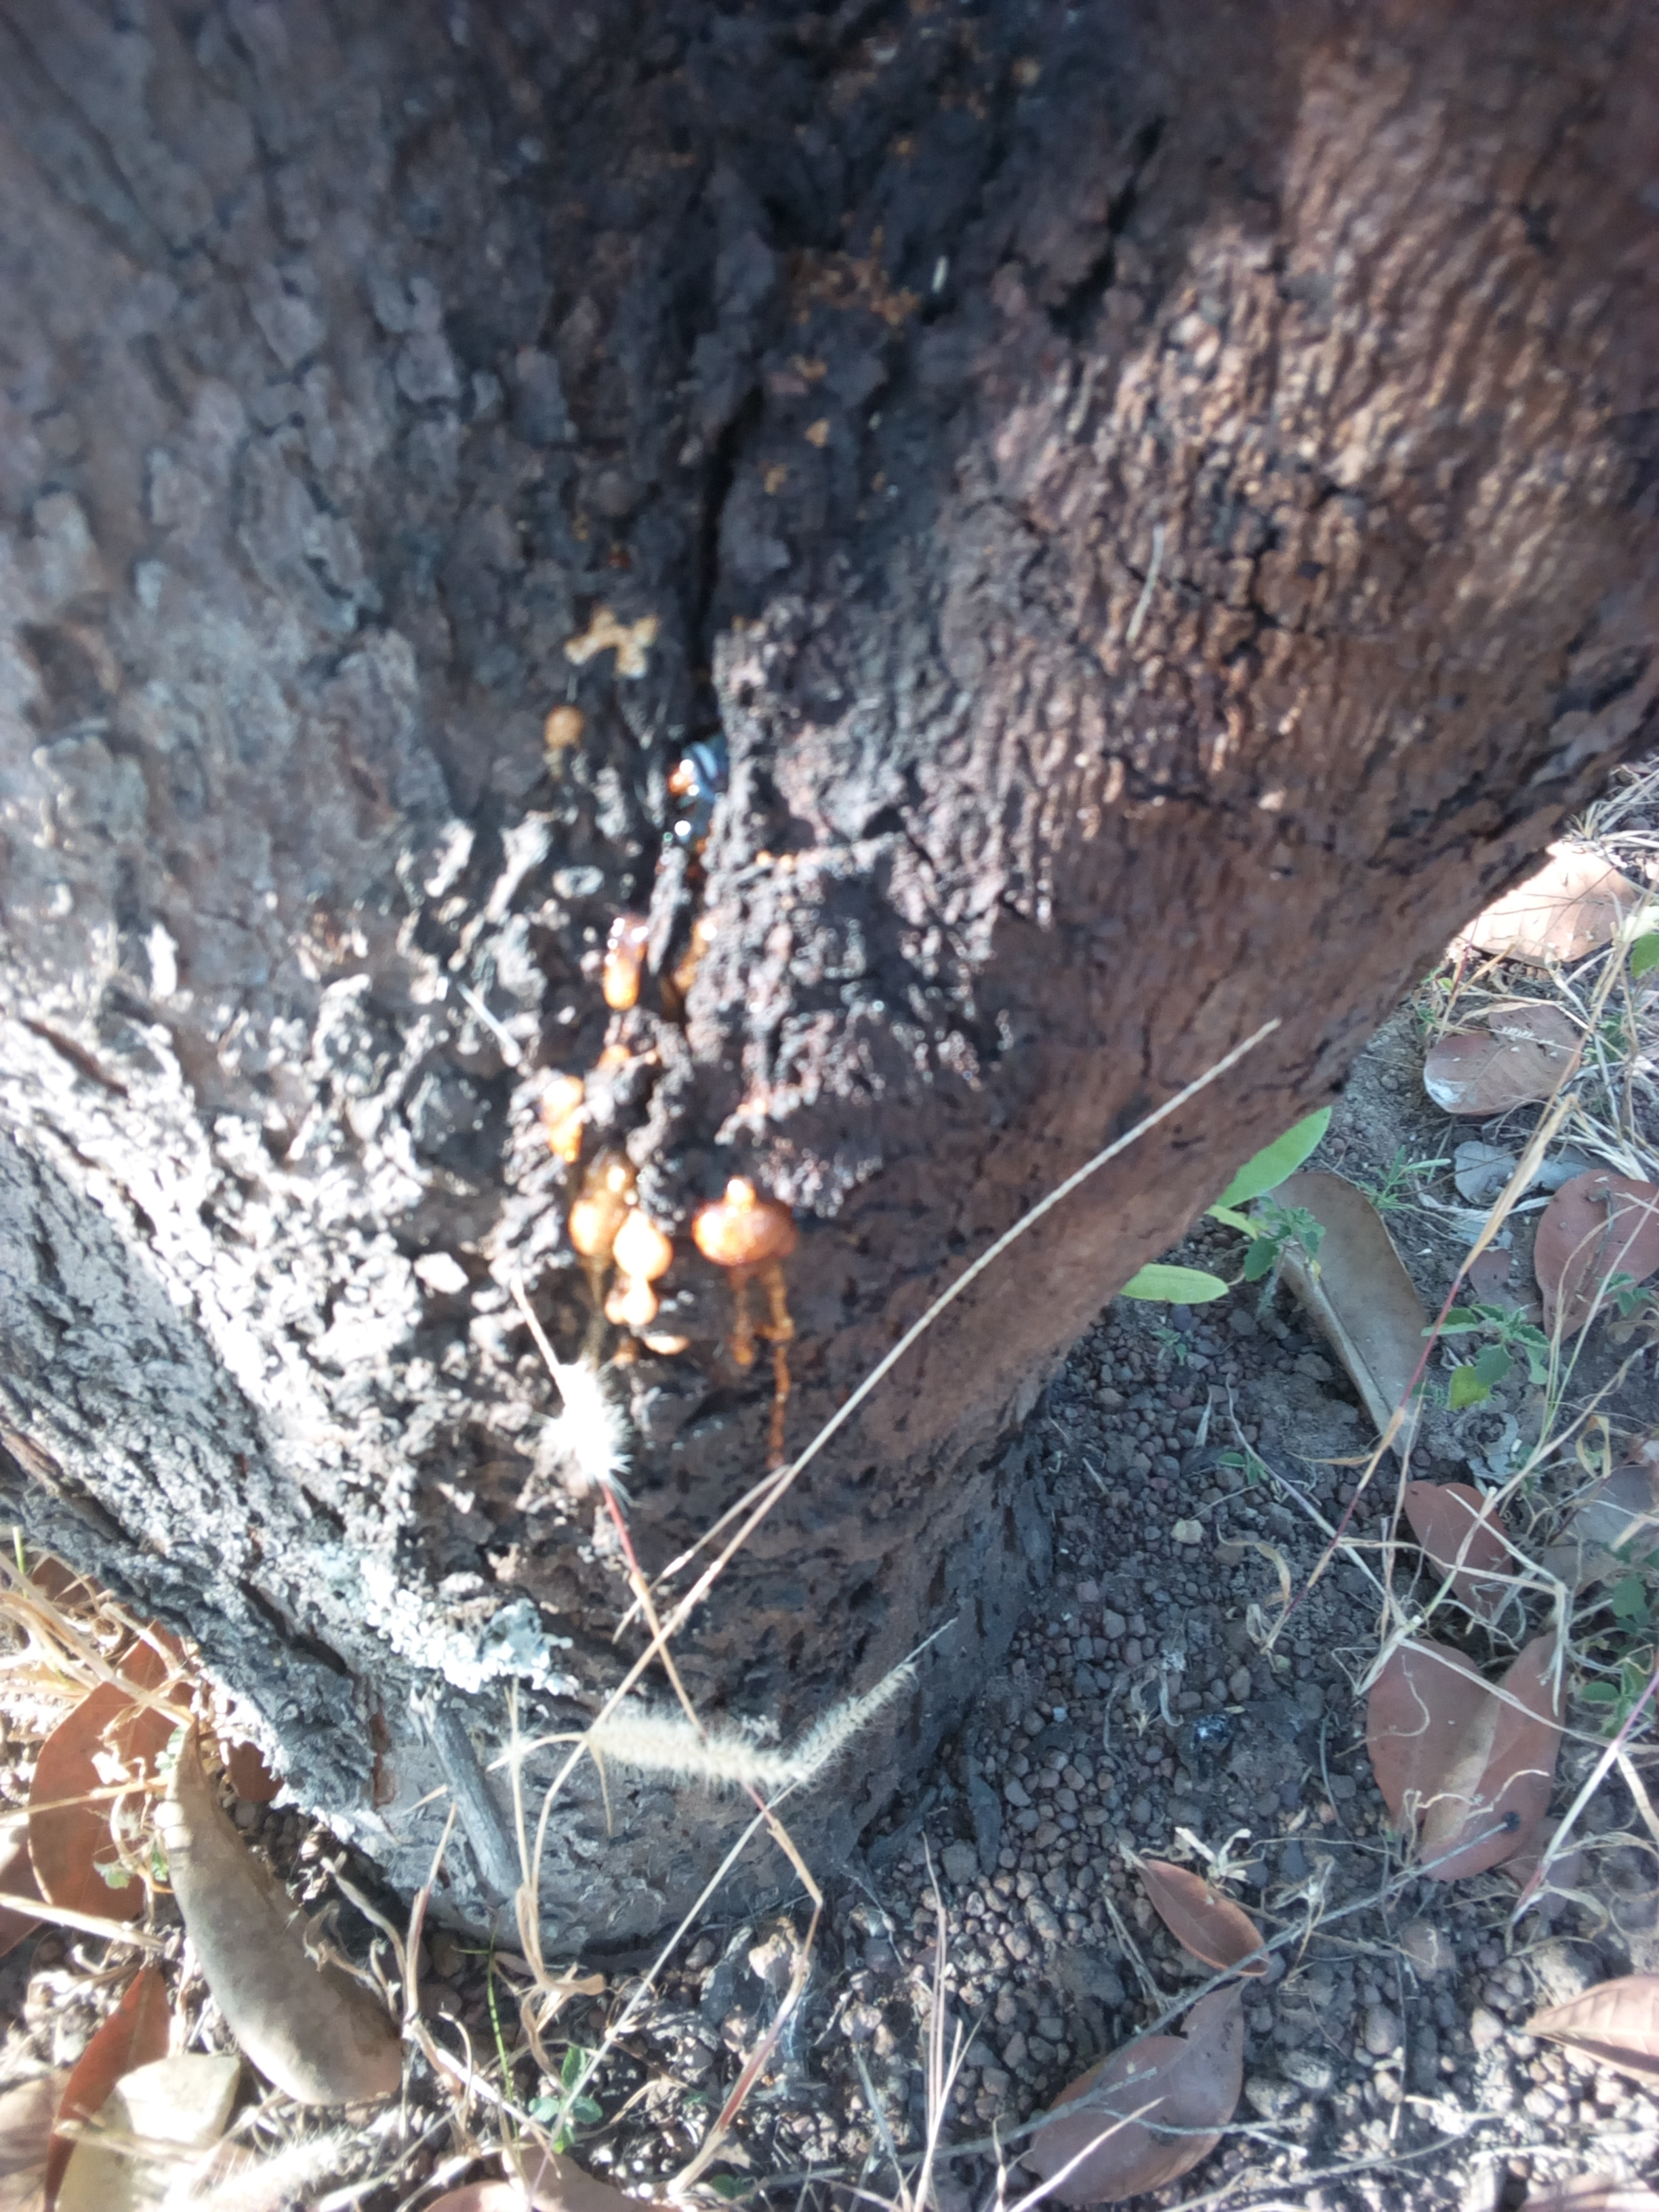Gommose: (558, 19, 938, 702), (525, 805, 941, 1386)
